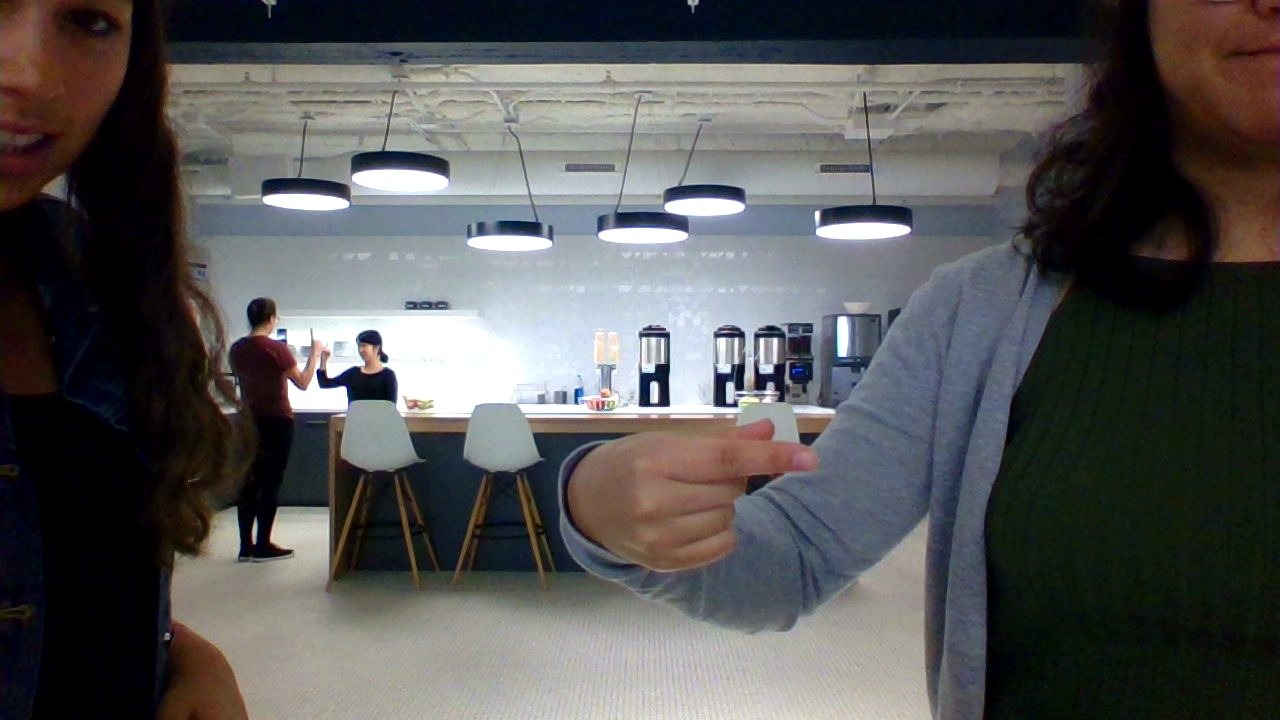g: (547, 407, 834, 591)
